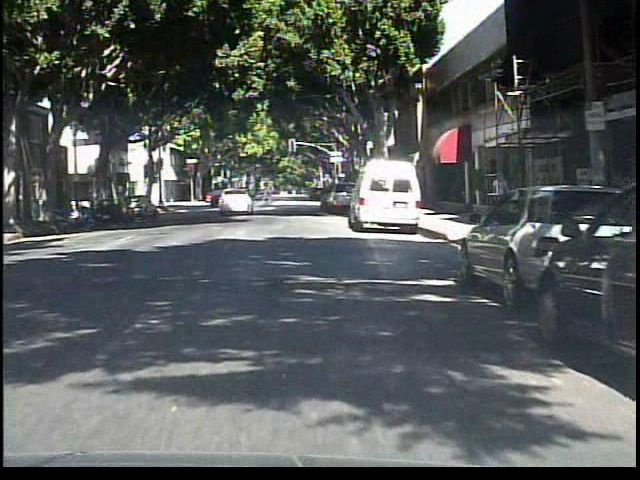person: (484, 165, 511, 224), (258, 179, 278, 213)
